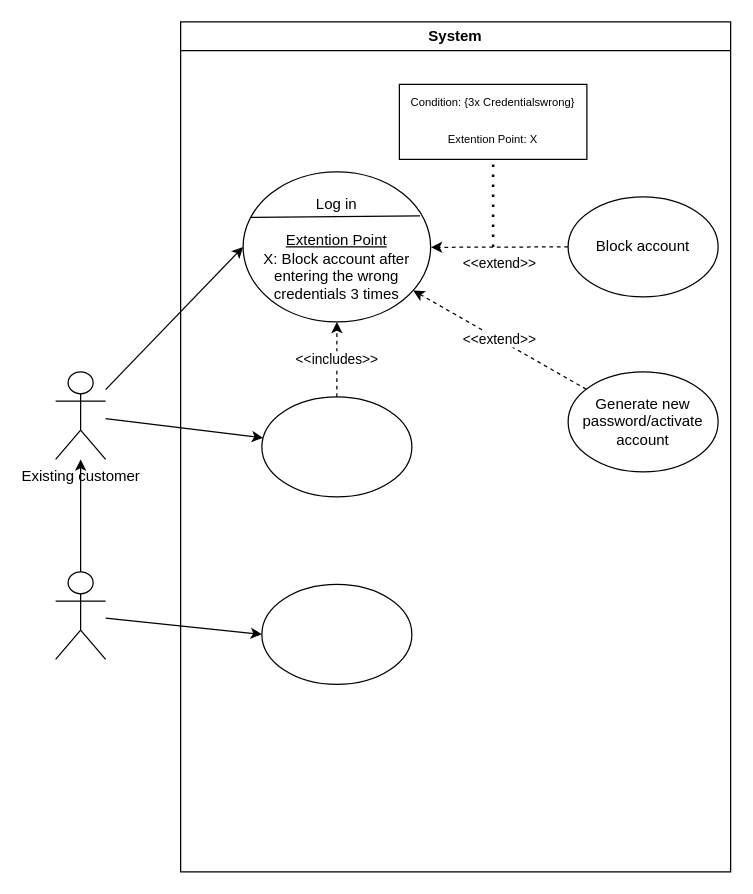
Some shapes in this 753 by 894 pixel diagram are drawn without their labels. The shapes that lost their labels are listed below. From the top down, each one's box as (x1, y1, x2, y2) in pixels, then its label:
(261, 396, 412, 497): Make a reservation
(54, 571, 106, 659): New customer
(261, 583, 412, 684): Register
